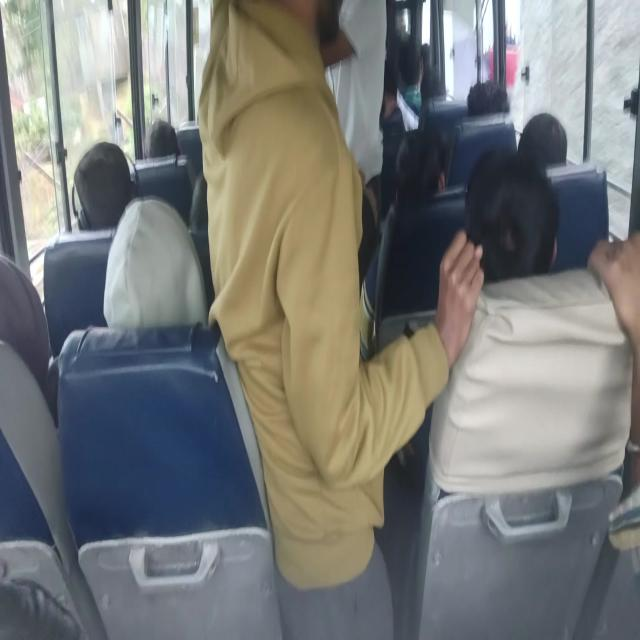person: (197, 0, 485, 638), (428, 145, 638, 498), (102, 194, 208, 329), (463, 146, 560, 283)
